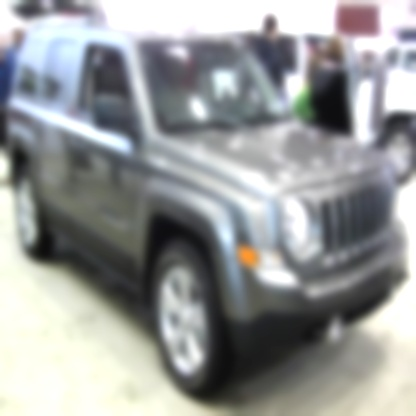Vehicle: (6, 22, 412, 404)
